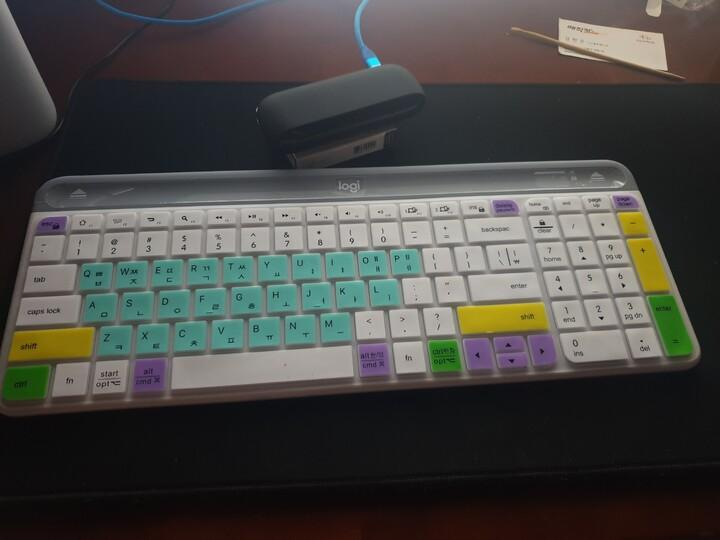keyboard: (0, 159, 701, 417)
